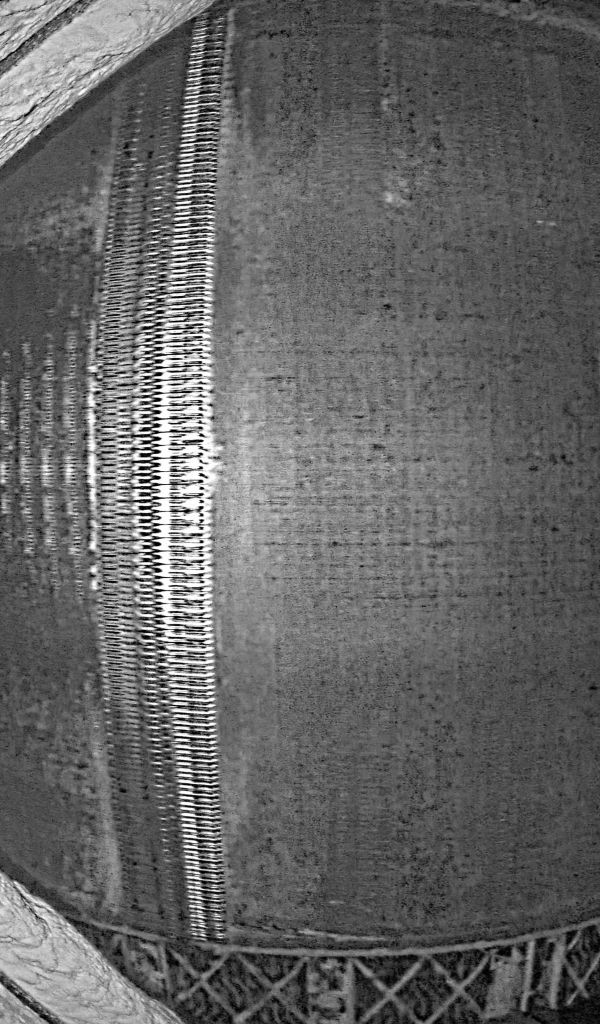splice: (76, 1, 238, 949)
